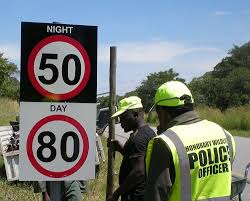Speed_limit_50km: (28, 34, 91, 100)
Speed_limit_80km: (27, 115, 90, 177)
